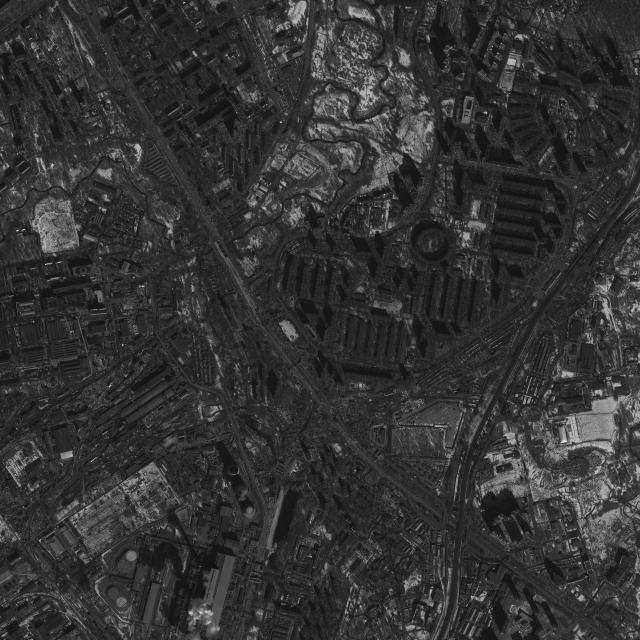storage-tank: (108, 587, 120, 600), (117, 559, 129, 571), (126, 550, 137, 562), (116, 597, 127, 608)
